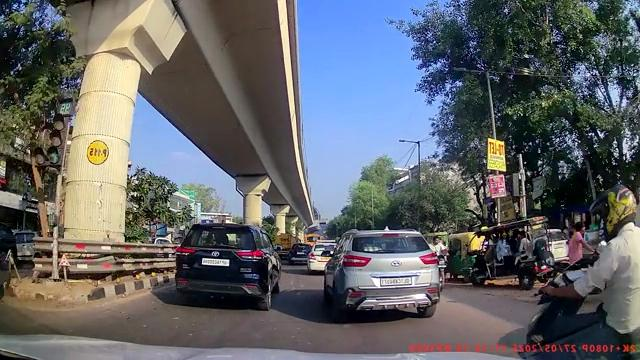motorcycle_with_helmet: (521, 182, 640, 357)
